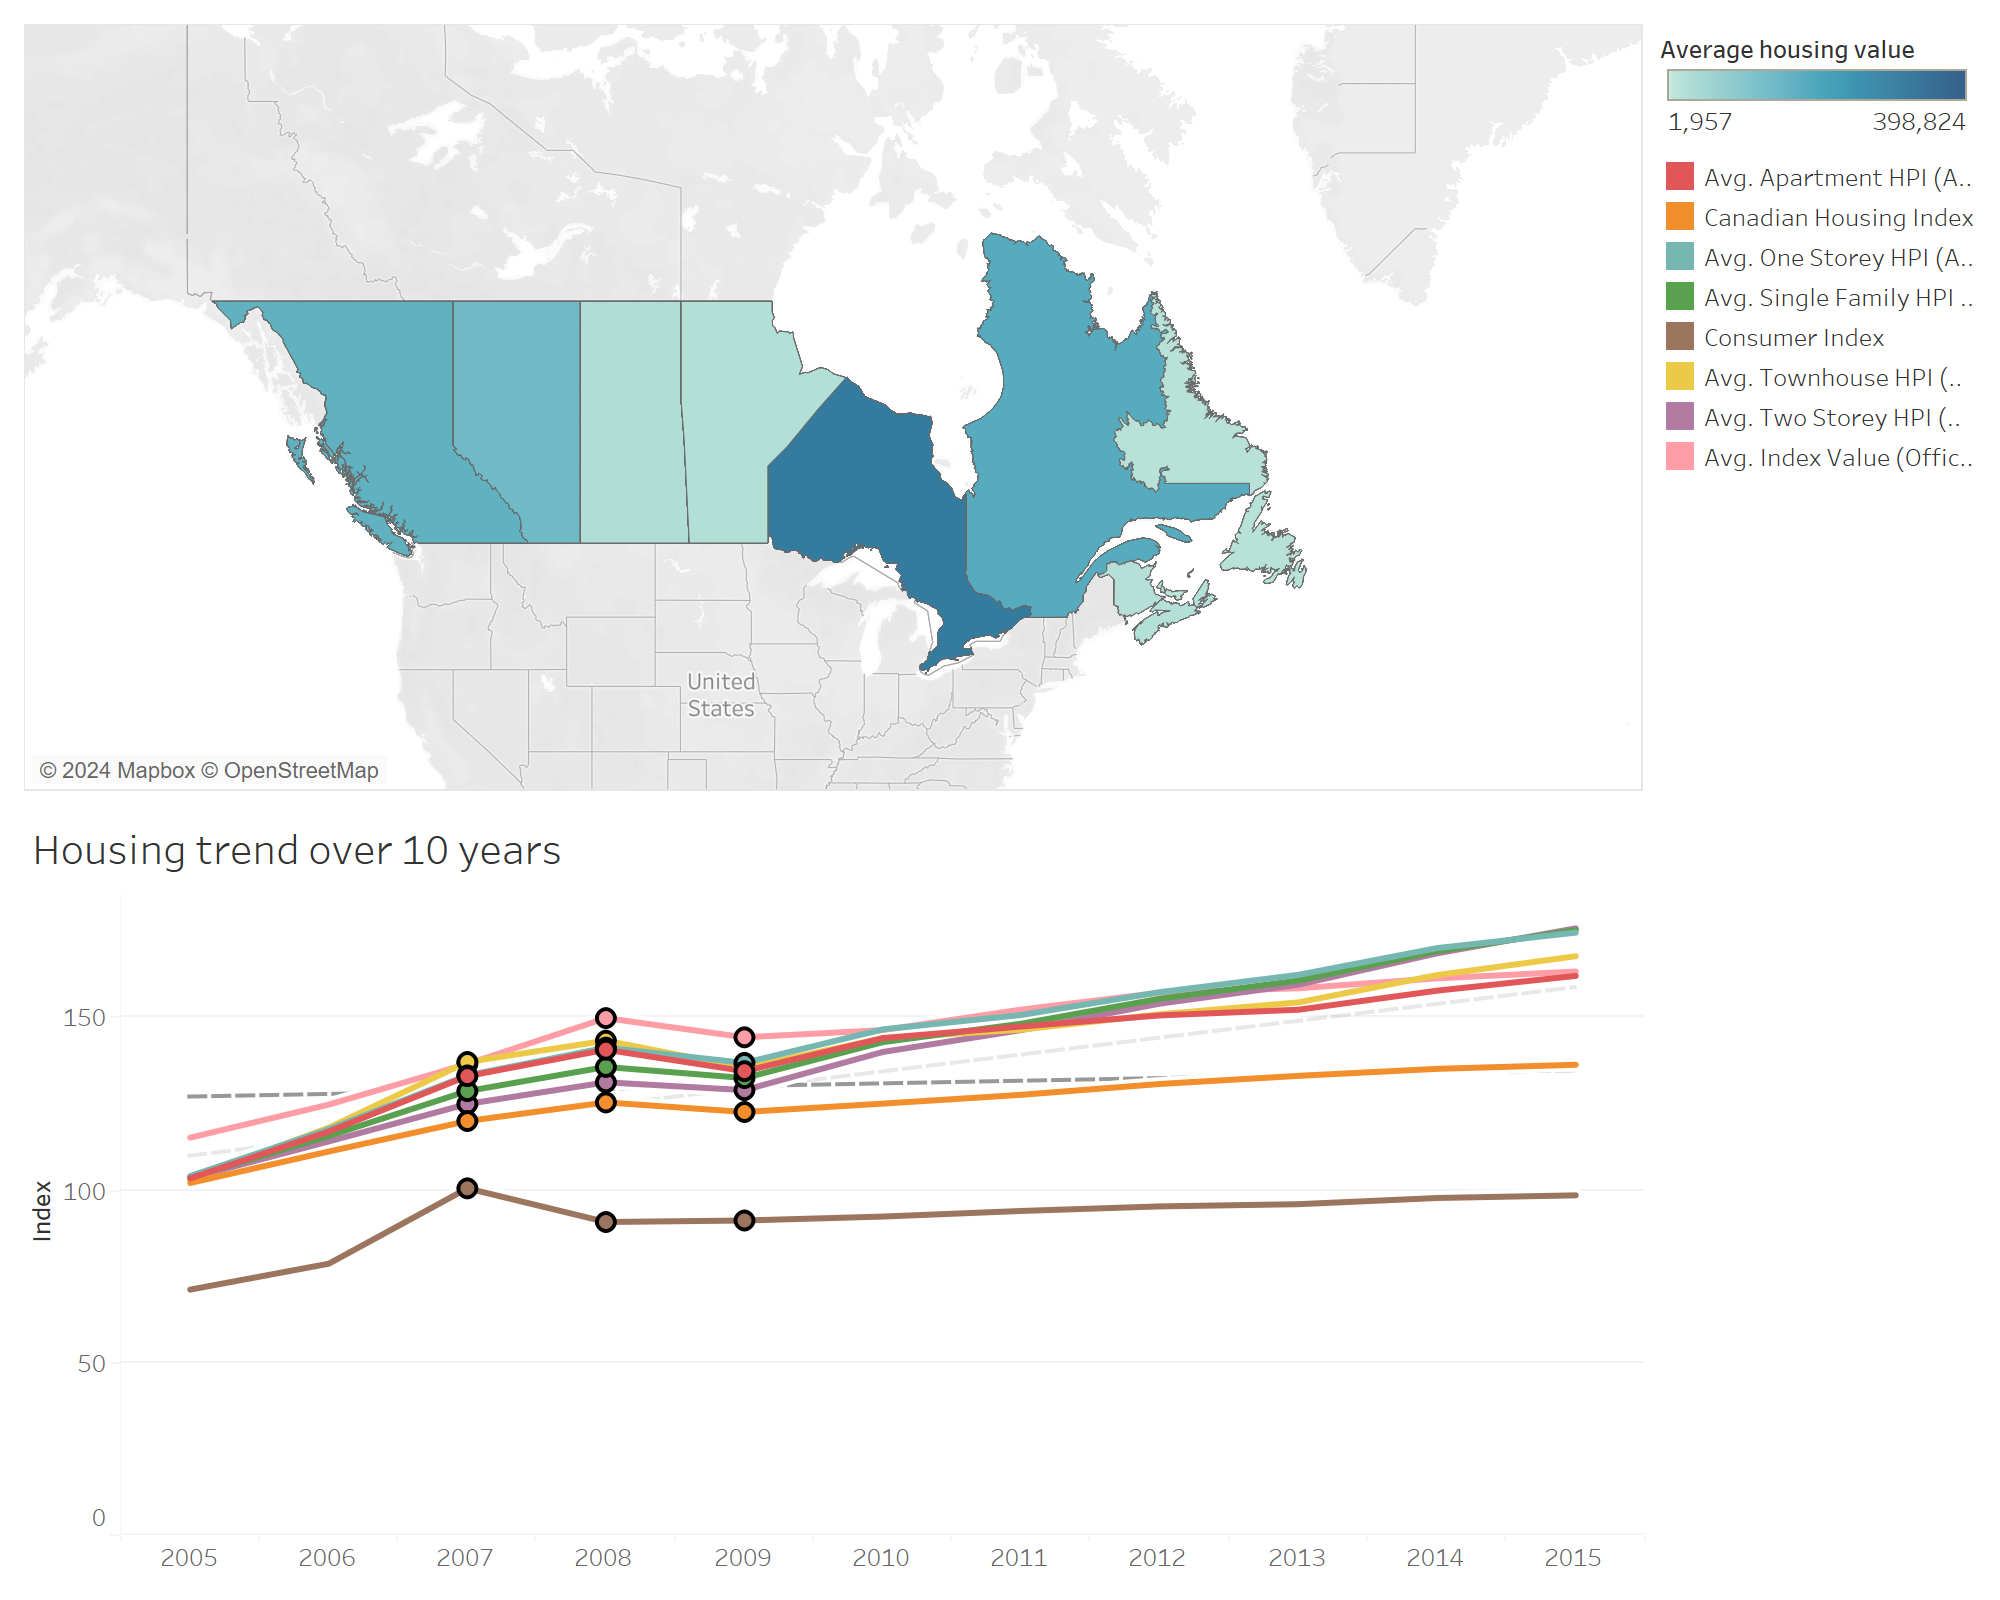

This screenshot's page, from the dashboard's own definition file:
{"tool":"tableau","page":{"name":"Dashboard 1","canvas":[1000,800],"ordinal":0},"visuals":[{"type":"worksheet","title":"Sheet 2","mark":"Multipolygon","box":[8,8,818,392]},{"type":"legend","title":"Sheet 2","param":"[federated.05y8zjb0t7zhxy156spxy1l1d420].[usr:Calculation_104427272411680778:qk]","box":[826,8,166,65]},{"type":"legend","title":"Sheet 1","param":"[federated.187rppu11x9kwh18klqca07qovlb].[:Measure Names]","box":[826,73,166,186]},{"type":"worksheet","title":"Sheet 1","mark":"Automatic","cols":["Date"],"box":[8,400,818,392]}]}

Visuals, with their boxes in screenshot pixels (x1, y1, x2, y2), scaled from the page's 1000x800 canvas onto the 2000x1600 screenshot:
"Sheet 2" worksheet (Multipolygon marks): box=[16, 16, 1652, 800]
"Sheet 2" legend: box=[1652, 16, 1984, 146]
"Sheet 1" legend: box=[1652, 146, 1984, 518]
"Sheet 1" worksheet: box=[16, 800, 1652, 1584]
